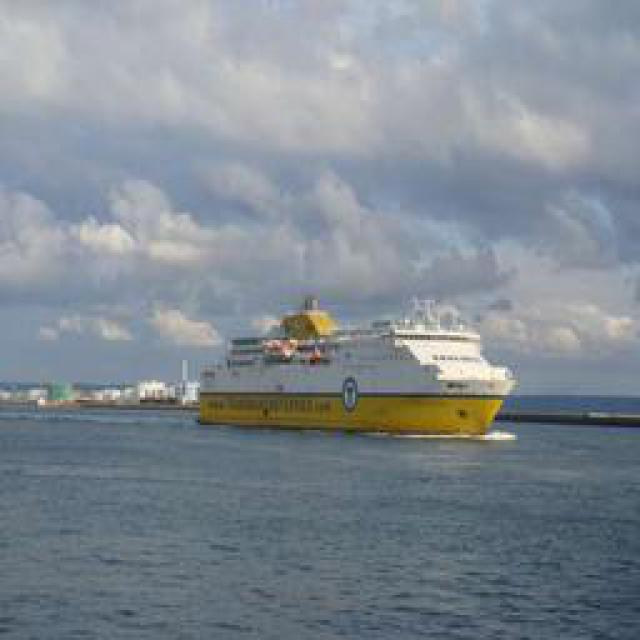Ship: (192, 297, 520, 437)
